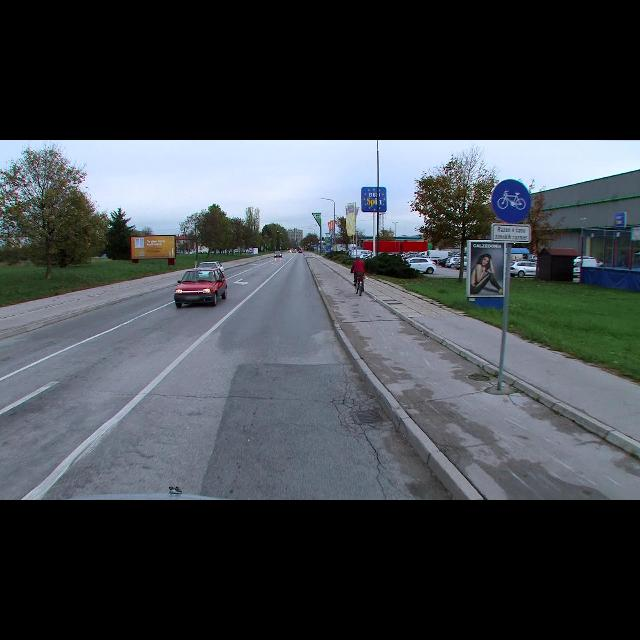Round: (492, 178, 532, 224)
Squared: (492, 224, 532, 243)
